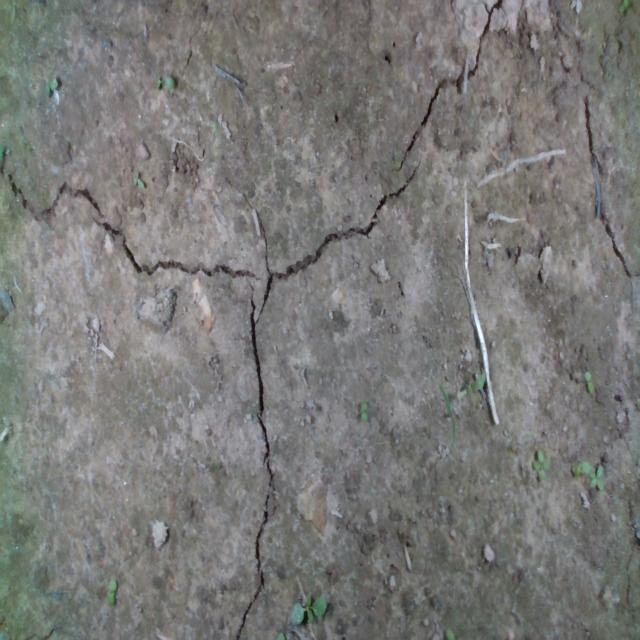weed: (289, 586, 327, 626), (38, 73, 66, 97), (532, 447, 550, 481), (355, 399, 369, 424), (107, 577, 119, 604)
